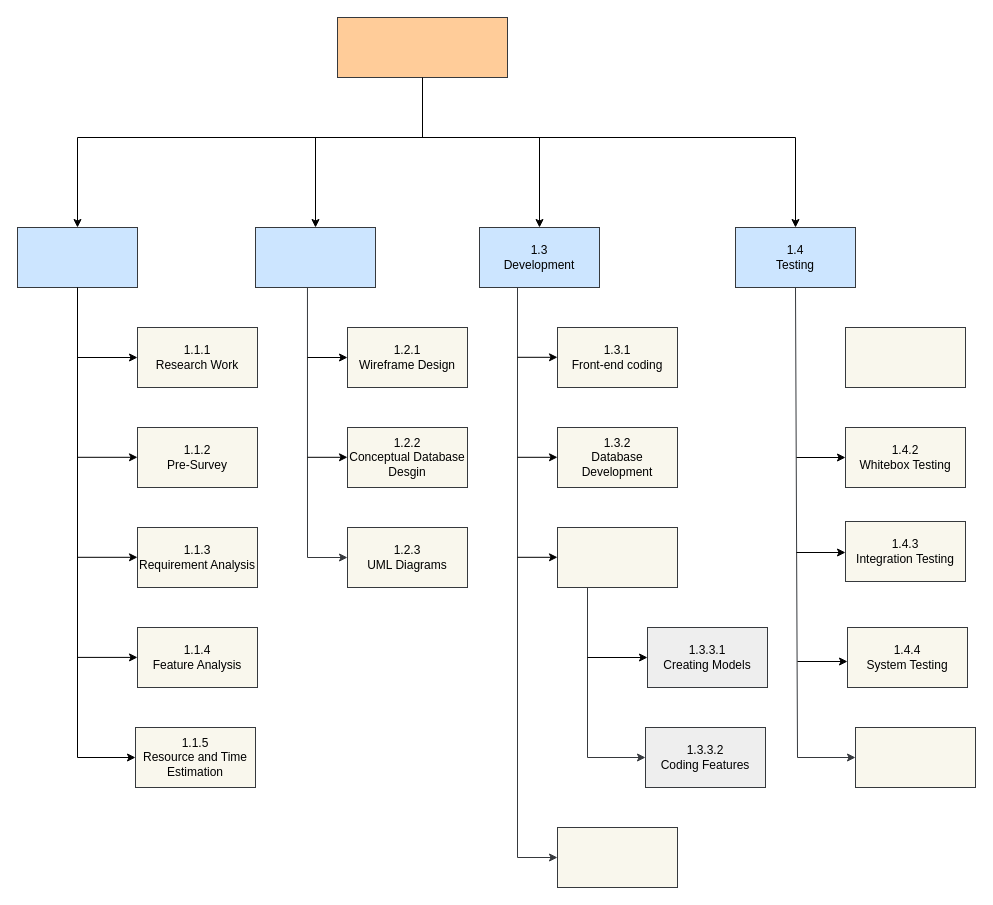
Some shapes in this 993 by 905 pixel diagram are drawn without their labels. The box of each missing label's shape, as (x1, y1, x2, y2) in pixels:
1. Dental Appointment System: (336, 16, 508, 78)
1.1 Requirement Analysis: (16, 226, 138, 288)
1.2 Design: (254, 226, 376, 288)
1.3.3 Backend Coding: (556, 526, 678, 588)
1.3.4 Integration of frontend and backend: (556, 826, 678, 888)
1.4.1 Blackbox Testing: (844, 326, 966, 388)
1.4.5 Client Evaluation Testing: (854, 726, 976, 788)
